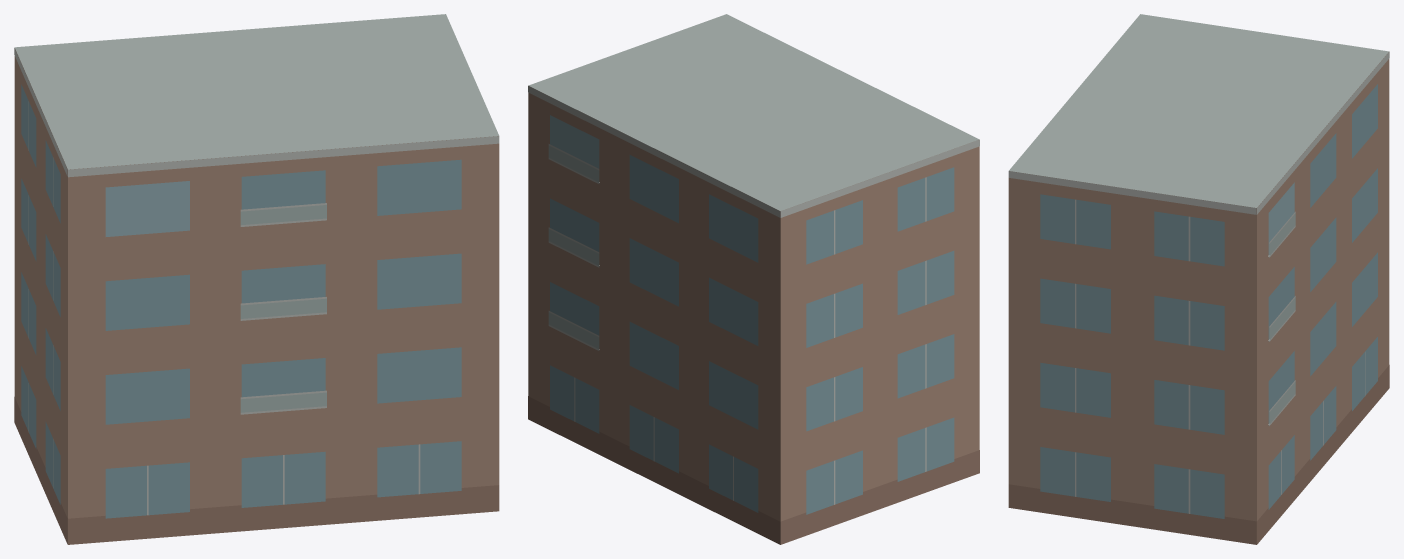
File: survey-upis-32952244.glb
3 views of the same model, side by side, from view 1: azimuth 30°, elevation 25°; view 2: azimuth 150°, elevation 25°; view 3: azimuth 270°, elevation 25° (orthographic). The views are drawn at different scales.
Parts seen in each view (by area): view 1: survey-upis-32952244.tmp; view 2: survey-upis-32952244.tmp; view 3: survey-upis-32952244.tmp.
Part boxes in pixels (x1,y1,x2,y2): survey-upis-32952244.tmp: (14,14,499,544); survey-upis-32952244.tmp: (528,14,979,544); survey-upis-32952244.tmp: (1008,14,1389,544).
Size of the model in its own units: 14.71 by 11.9 by 12.2.
